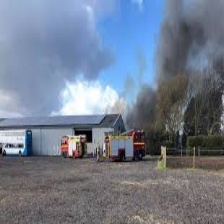smoke: (146, 10, 209, 130)
